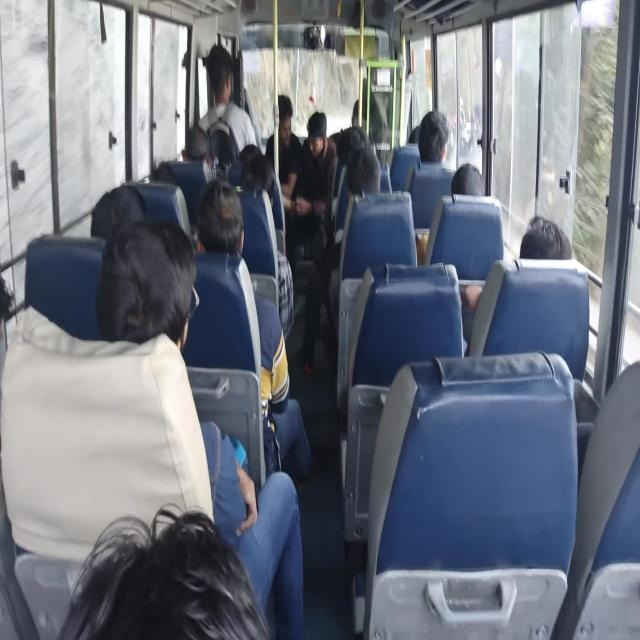person: (96, 218, 304, 638), (193, 178, 313, 482), (57, 502, 271, 639), (460, 214, 572, 354), (290, 110, 338, 256), (197, 43, 257, 159), (265, 94, 303, 210), (90, 184, 146, 240), (519, 216, 572, 260), (346, 146, 380, 199), (417, 110, 449, 164), (352, 96, 386, 142), (450, 162, 484, 196)
